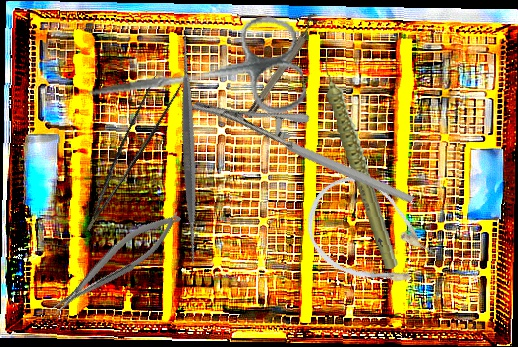Cannula: (288, 159, 452, 312)
Fixation Ring: (239, 10, 326, 121)
Handpiece: (320, 47, 401, 273)
Iris Scissors: (80, 10, 310, 146)
Needle Holder: (189, 43, 416, 263), (42, 204, 190, 320)
Spatula Surgical: (64, 24, 315, 274)
Tissue Forceps: (62, 68, 188, 231)
